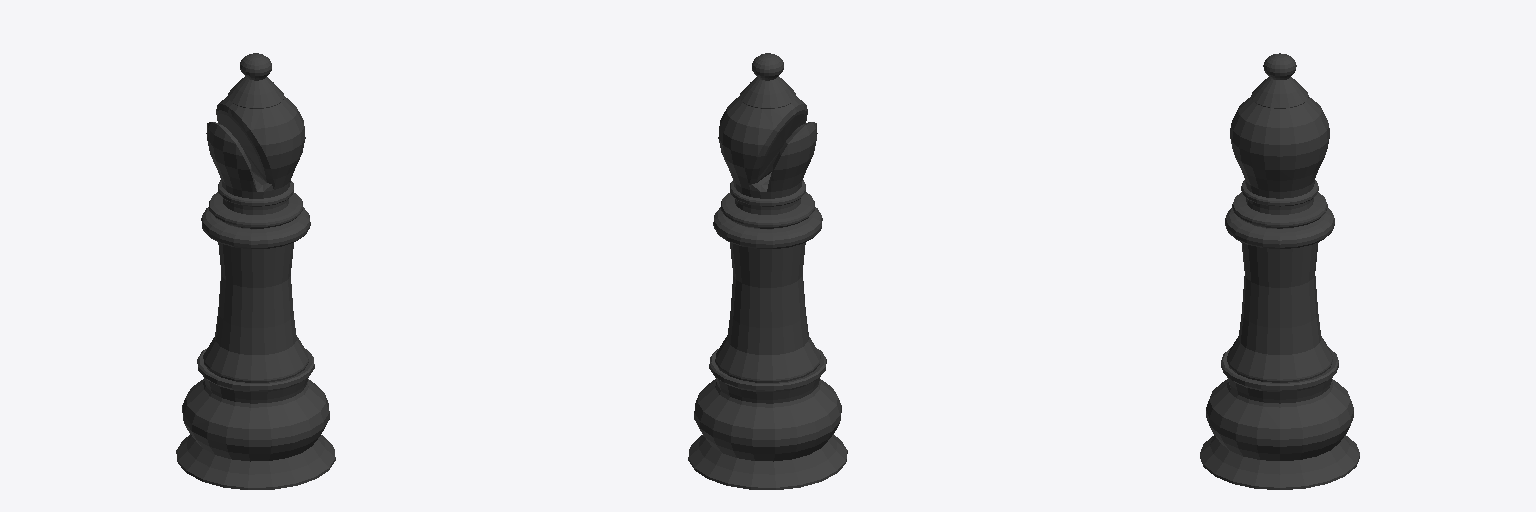
The picture shows the model from 3 angles: view 1: azimuth 30°, elevation 25°; view 2: azimuth 150°, elevation 25°; view 3: azimuth 270°, elevation 25°; orthographic projection.
Parts seen in each view (by area): view 1: Bishop1_Bishop1Shape; view 2: Bishop1_Bishop1Shape; view 3: Bishop1_Bishop1Shape.
Part boxes in pixels (x1,y1,x2,y2): Bishop1_Bishop1Shape: (176, 53, 335, 489); Bishop1_Bishop1Shape: (688, 53, 847, 489); Bishop1_Bishop1Shape: (1200, 53, 1359, 489).
Size of the model in its own units: 0.9827 by 2.73 by 0.9902.
Materials: 1 (1 with a texture image).